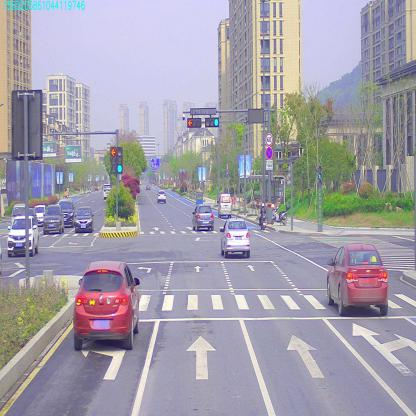traffic-light: (187, 117, 200, 128), (206, 117, 219, 128)
